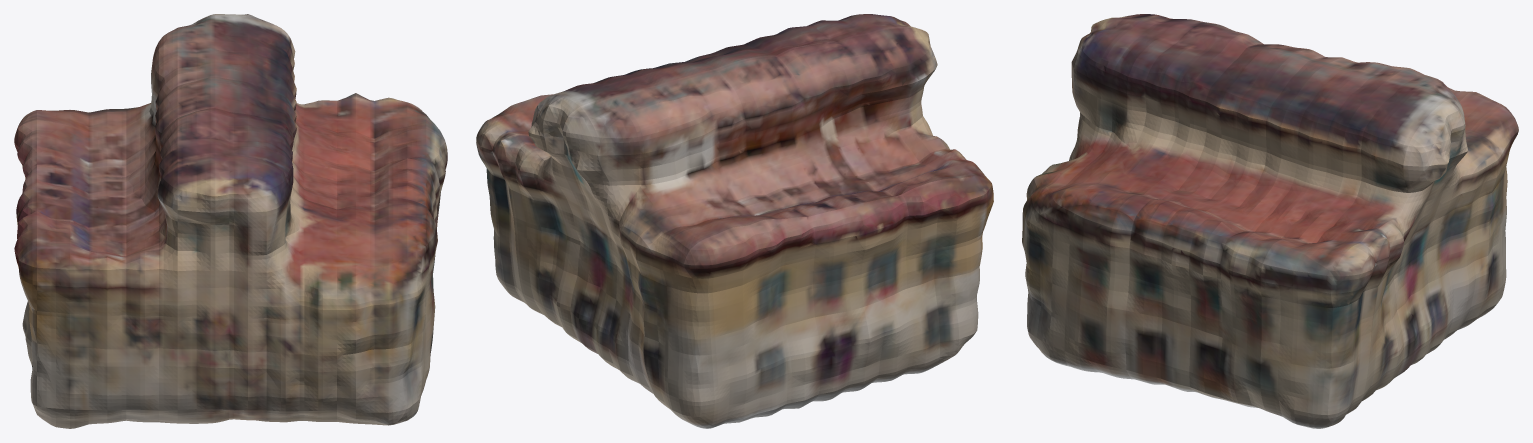
The picture shows the model from 3 angles, left to right: view 1: azimuth 30°, elevation 25°; view 2: azimuth 150°, elevation 25°; view 3: azimuth 270°, elevation 25°; orthographic projection.
Parts seen in each view (by area): view 1: mesh_00215000_gradio_lod0.ply; view 2: mesh_00215000_gradio_lod0.ply; view 3: mesh_00215000_gradio_lod0.ply.
Part boxes in pixels (bbox=[...]): mesh_00215000_gradio_lod0.ply: bbox=[14, 14, 447, 428]; mesh_00215000_gradio_lod0.ply: bbox=[476, 14, 993, 428]; mesh_00215000_gradio_lod0.ply: bbox=[1022, 14, 1518, 428].
Size of the model in its own units: 0.8689 by 0.5541 by 0.8102.
